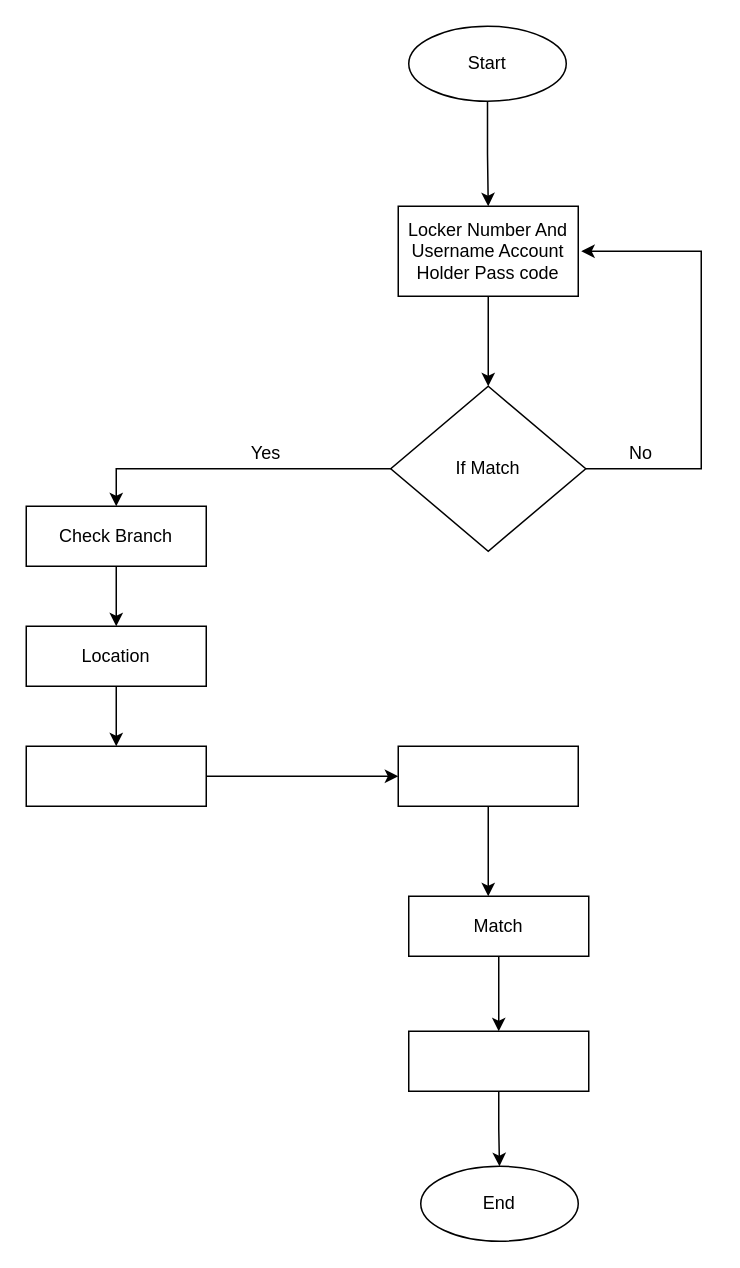
The diagram is 740 pixels wide and 1268 high, and some of its shapes have lost their labels. Each missing label, with the centre of its shape:
"Check In Allow Fetch" goes at point 498,1060.
"Locker Number" goes at point 115,775.
"Scan Finger" goes at point 487,775.
